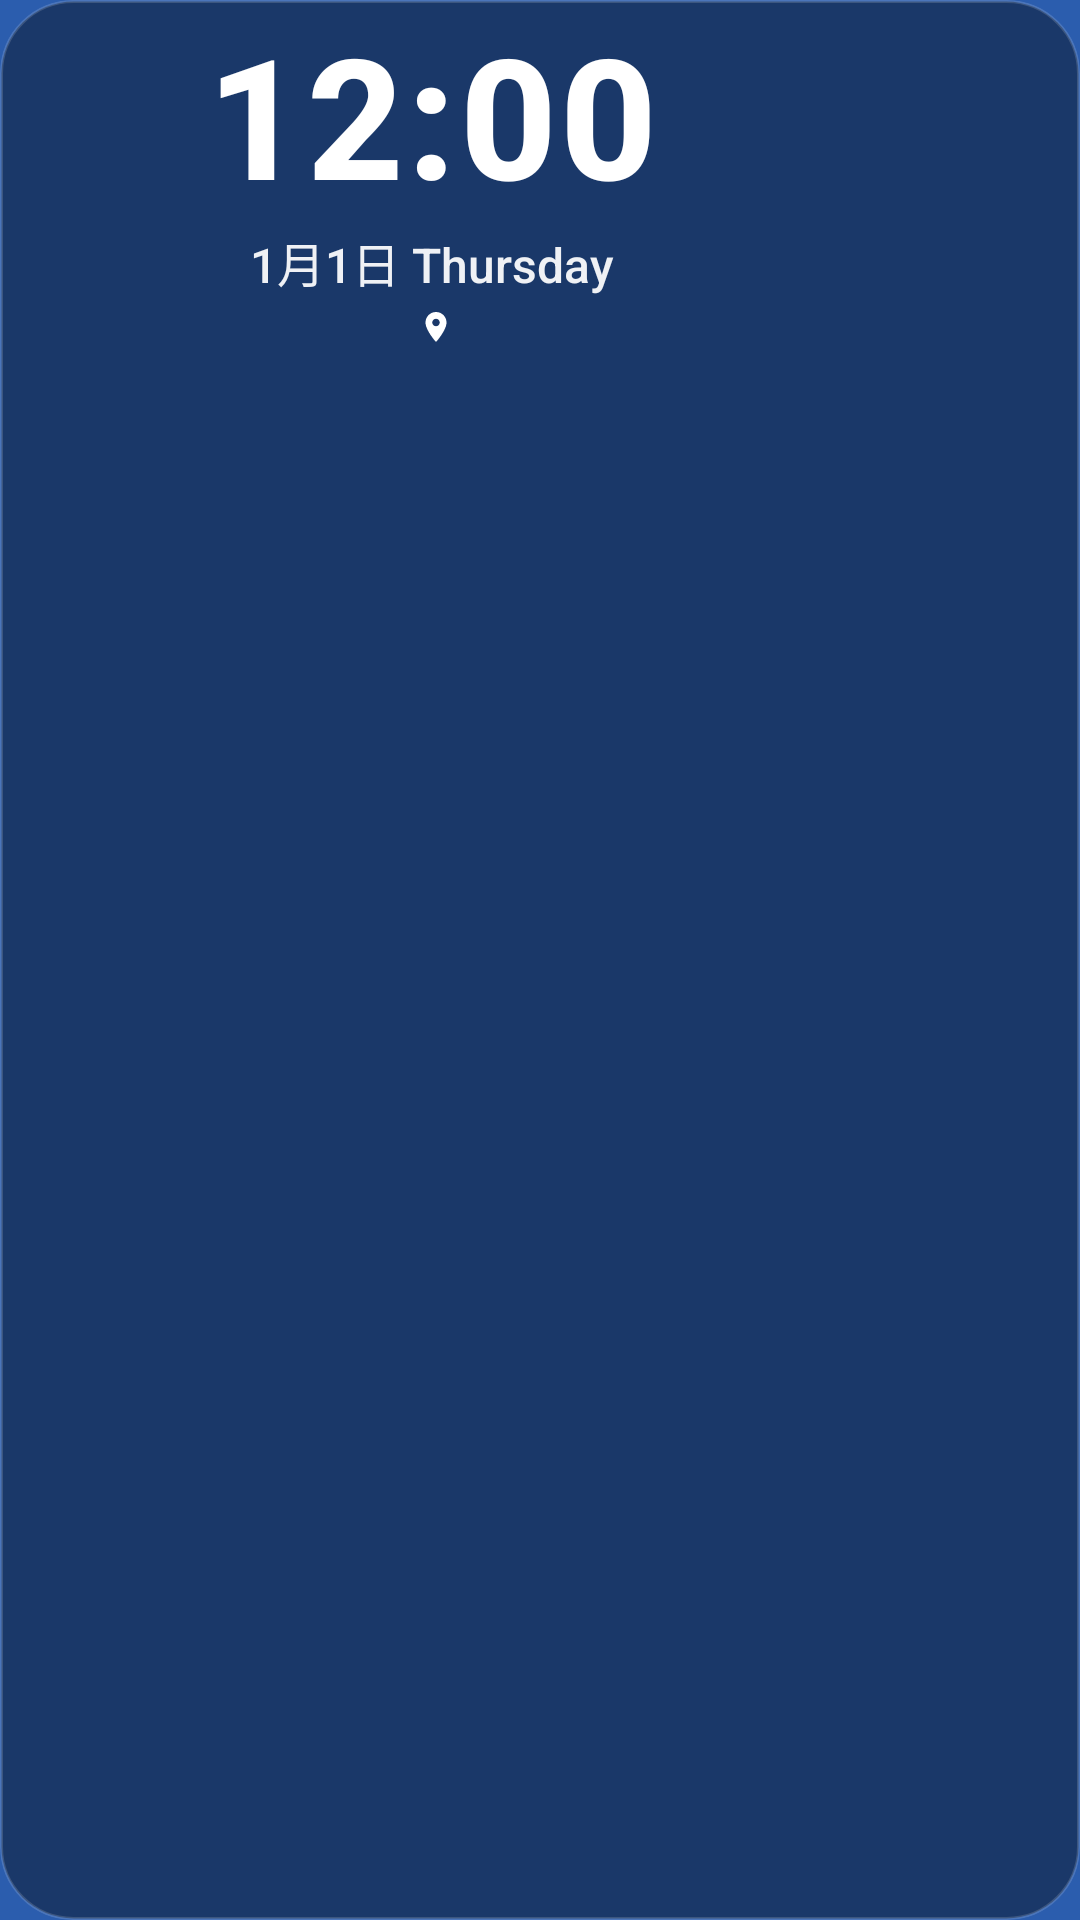

Screen size 1080w x 1920h. Icon name, then its center in pixels as (x,y):
widget location: (436,327)
